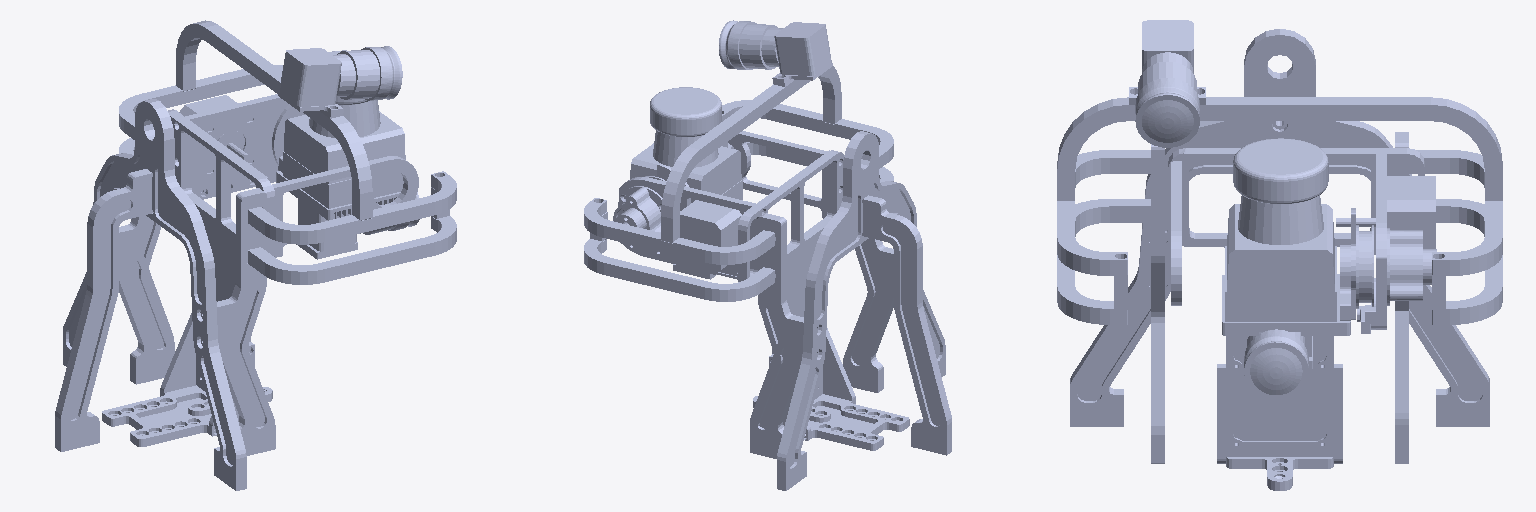
robot.urdf — DRC_HEAD:
<?xml version="1.0"?>
<robot xmlns:xacro="http://www.ros.org/wiki/xacro"
  xmlns:sensor="http://playerstage.sourceforge.net/gazebo/xmlschema/#sensor"
  xmlns:controller="http://playerstage.sourceforge.net/gazebo/xmlschema/#controller"
  xmlns:interface="http://playerstage.sourceforge.net/gazebo/xmlschema/#interface"
  name="DRC_HEAD">


  <!--<link name="base_footprint">
    <visual>
      <origin xyz="0 0 0" rpy="0 0 0" />
      <geometry>
        <box size="0.001 0.001 0.001"/>
      </geometry>
    </visual>
  </link>

  <joint name="base_footprint_joint" type="fixed">
    <origin xyz="0 0 0" rpy="0 0 0" />
    <parent link="base_footprint" />
    <child link="Body_Head" />
  </joint>-->

  <link name="Body_Head">
    <inertial>
      <origin
        xyz="-0.0080768 0.0056186 0.13872"
        rpy="0 0 0" />
      <mass
        value="0.69065" />
      <inertia
        ixx="0.0068275"
        ixy="0.00011826"
        ixz="0.0014243"
        iyy="0.0060857"
        iyz="-0.00045042"
        izz="0.0053323" />
    </inertial>
    <visual>
      <origin
        xyz="0 0 0"
        rpy="0 0 0" />
      <geometry>
        <mesh filename="package://drc_plugin/meshes/Body_Head.STL" />
      </geometry>
      <material
        name="">
        <color
          rgba="0.79216 0.81961 0.93333 1" />
      </material>
    </visual>
    <collision>
      <origin
        xyz="0 0 0"
        rpy="0 0 0" />
      <geometry>
        <mesh filename="package://drc_plugin/meshes/Body_Head.STL" />
      </geometry>
    </collision>
  </link>

  <joint name="Head_Sensor" type="revolute">
    <origin
      xyz="0.085 0.0425 0.165"
      rpy="0 0 0" />
    <parent
      link="Body_Head" />
    <child
      link="Body_Hokuyo" />
    <axis
      xyz="0 1 0" />
    <limit effort="100000" velocity="1.0" lower="-5" upper="5" />
    <dynamics damping="200" friction="200" />
  </joint>

  <link name="Body_Hokuyo">
    <inertial>
      <origin
        xyz="0.0010159 -0.041037 0.0011902"
        rpy="0 0 0"/>
      <mass
        value="0.34186" />
      <inertia
        ixx="0.00046452"
        ixy="-4.8449E-06"
        ixz="-2.3351E-05"
        iyy="0.00048884"
        iyz="1.6828E-06"
        izz="0.00020206" />
    </inertial>
    <collision>
      <origin xyz="0 0 0" rpy="0 0 0"/>
      <geometry>
        <mesh filename="package://drc_plugin/meshes/Body_Hokuyo.STL"/>
      </geometry>
    </collision>
    <visual>
      <origin xyz="0 0 0" rpy="0 0 0"/>
      <geometry>
        <mesh filename="package://drc_plugin/meshes/Body_Hokuyo.STL"/>
      </geometry>
      <material
        name="">
        <color
          rgba="0.79216 0.81961 0.93333 1" />
      </material>
    </visual>
  </link>


</robot>

--- Render facts (derived) ---
3 views of the same robot in one strip: view 1: azimuth 30°, elevation 25°; view 2: azimuth 150°, elevation 25°; view 3: azimuth 270°, elevation 25° (orthographic).
Robot: DRC_HEAD — 2 links, 1 joints (1 revolute); root link Body_Head; default pose: every joint at zero.
Links seen in each view (by area): view 1: Body_Head, Body_Hokuyo; view 2: Body_Head, Body_Hokuyo; view 3: Body_Head, Body_Hokuyo.
Link boxes in pixels (box(x1,y1,x2,y2)): Body_Head: box(55, 20, 456, 490); Body_Hokuyo: box(272, 50, 419, 259); Body_Head: box(584, 20, 951, 490); Body_Hokuyo: box(630, 87, 742, 279); Body_Head: box(1057, 20, 1502, 490); Body_Hokuyo: box(1222, 138, 1355, 400).
Size in the robot's own frame: 0.2728 by 0.248 by 0.2822 metres.
2 mesh visuals loaded from 2 distinct referenced files (2 binary STL).